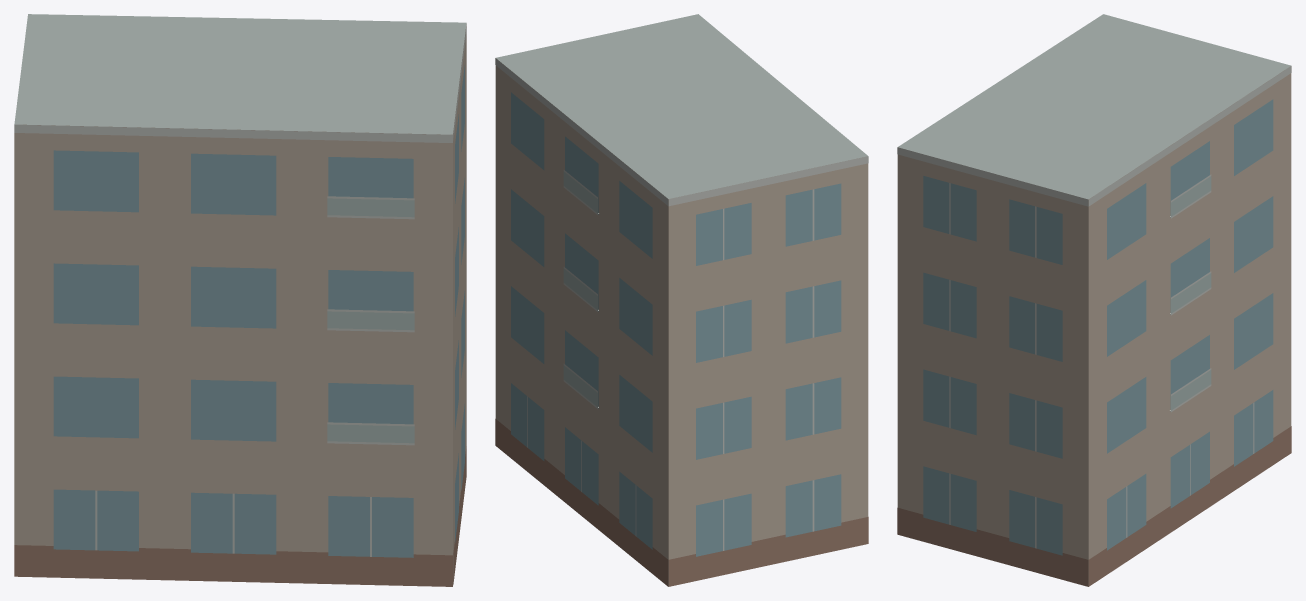
File: survey-upis-32475543.glb
3 renders of one model, left to right at view 1: azimuth 30°, elevation 25°; view 2: azimuth 150°, elevation 25°; view 3: azimuth 270°, elevation 25°, orthographic. The views are drawn at different scales.
Visible parts, largest first — view 1: survey-upis-32475543.tmp; view 2: survey-upis-32475543.tmp; view 3: survey-upis-32475543.tmp.
Part boxes in pixels (x1=…): survey-upis-32475543.tmp: x1=14, y1=14, x2=466, y2=586; survey-upis-32475543.tmp: x1=495, y1=14, x2=868, y2=586; survey-upis-32475543.tmp: x1=897, y1=14, x2=1291, y2=586.
Size of the model in its own units: 13.46 by 13.1 by 12.08.
